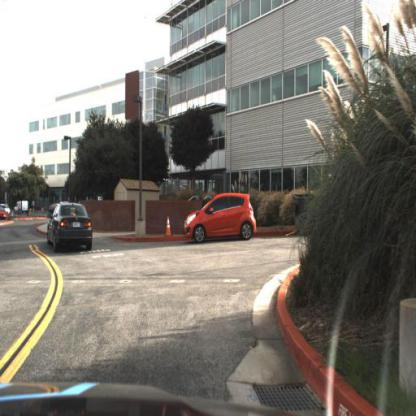car: (183, 190, 256, 245), (46, 201, 95, 252), (13, 198, 32, 215), (1, 204, 10, 229)
